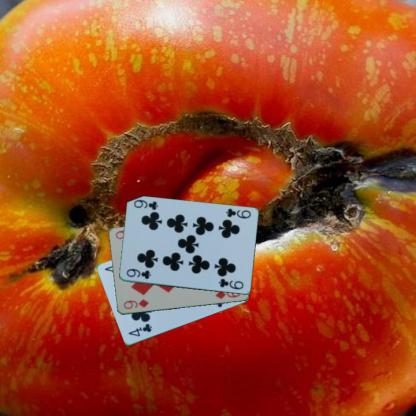4c: (125, 321, 153, 338)
9c: (124, 266, 152, 281), (223, 206, 252, 220)
9d: (121, 296, 150, 310)
